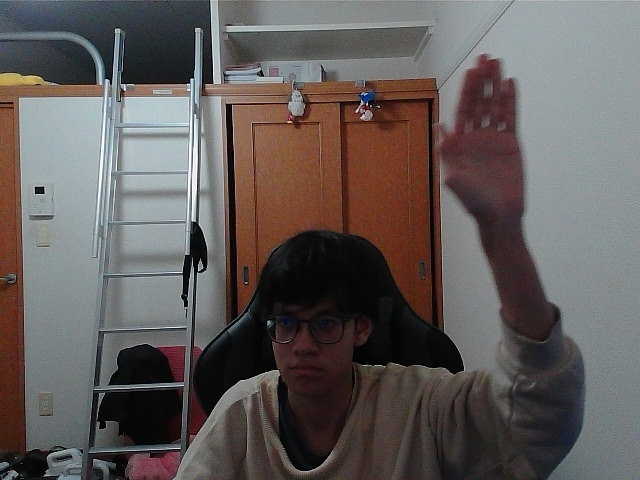open_palm: (441, 64, 511, 215)
